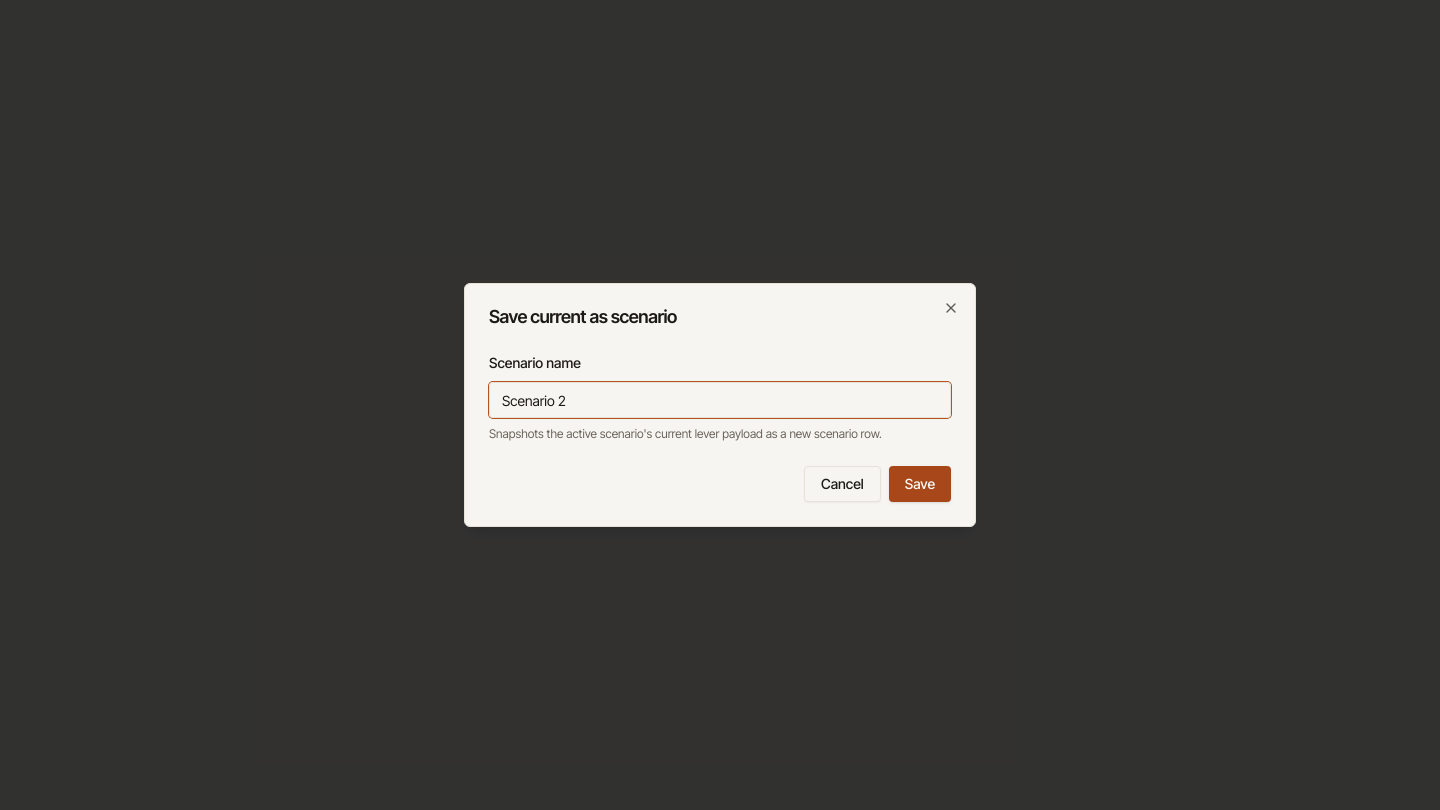
SaveCurrentDialog › blocks Save when the name trims to empty
Step 1. Clear the field labelled "Scenario name" → coordinates (720, 400), box [489,382,951,418]
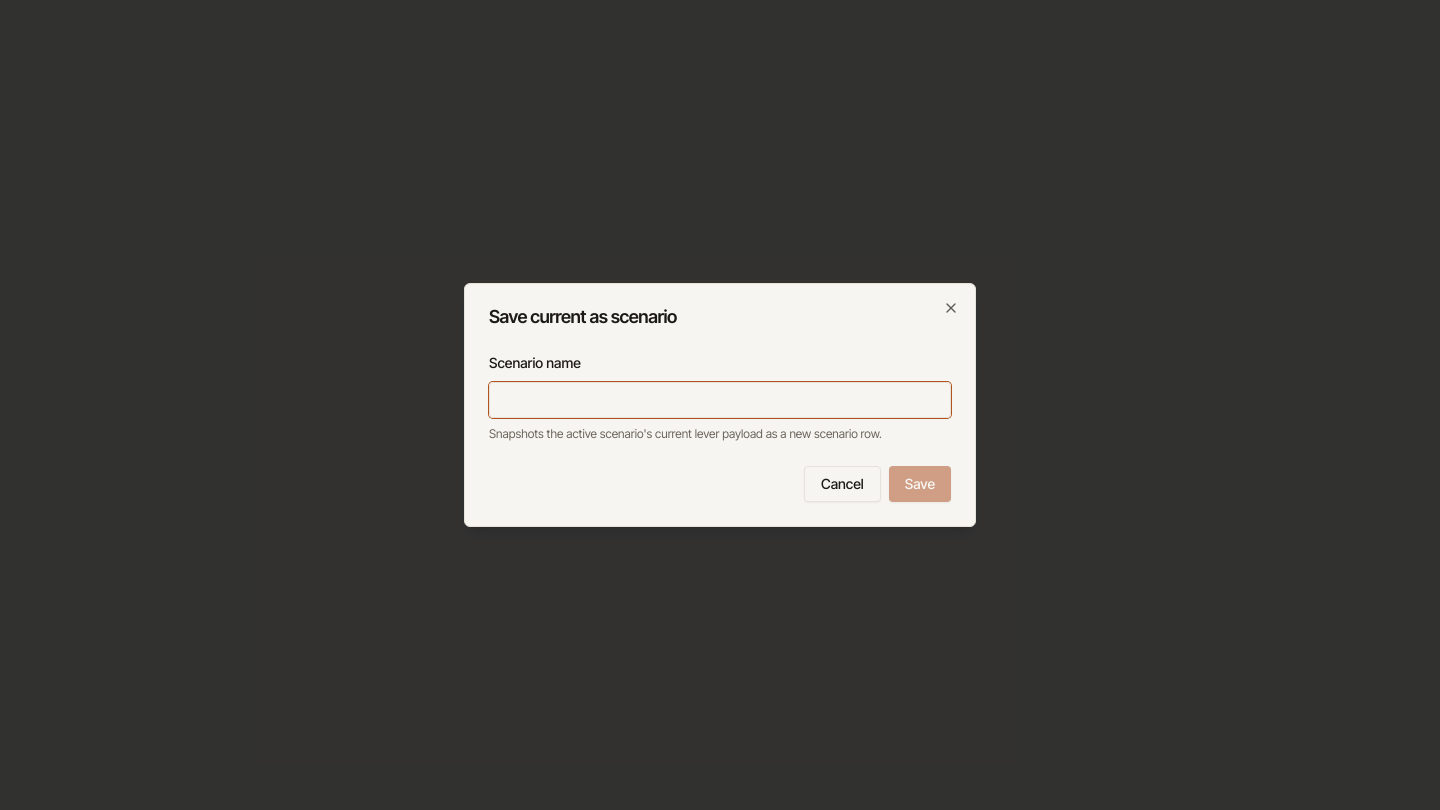
Expected: the button "Save" is disabled, [889,466,951,502]
